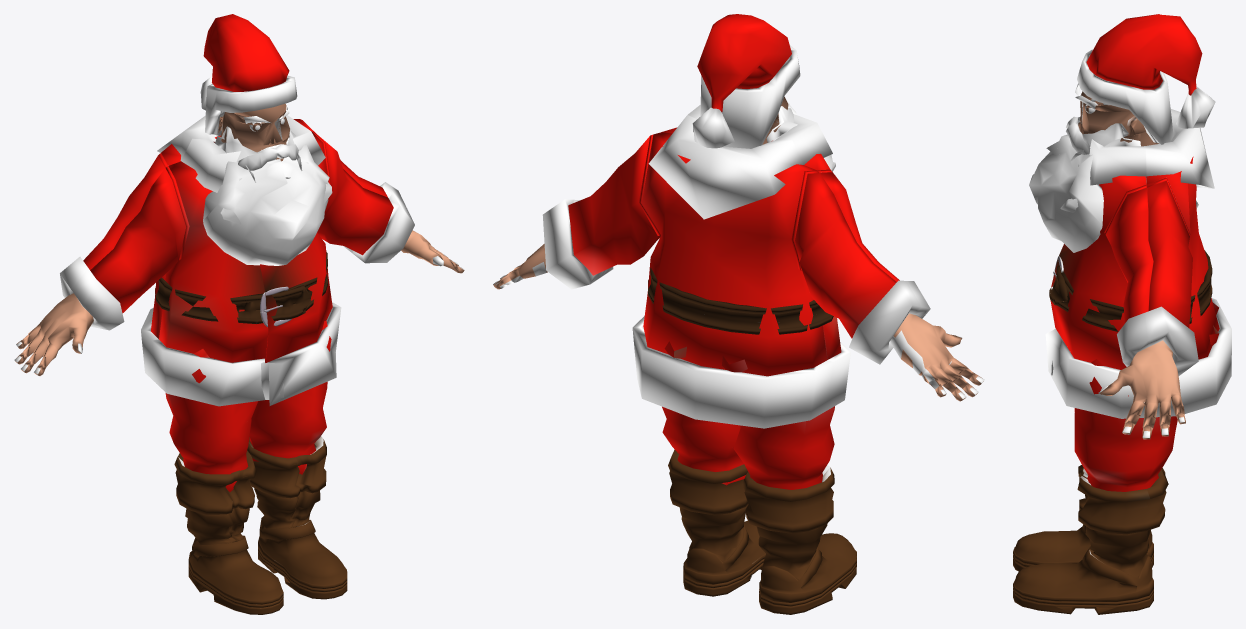
Rendered from santa.obj.
3 renders of one model, left to right at view 1: azimuth 30°, elevation 25°; view 2: azimuth 150°, elevation 25°; view 3: azimuth 270°, elevation 25°, orthographic. The views are drawn at different scales.
Visible parts, largest first — view 1: group_Default.001, group_White.001, group_boots.001, group_barbes, group_pantalon.001, group_boots_semelle.001, group_main.001, group_Ceinturon.001, group_man; view 2: group_Default.001, group_White.001, group_boots.001, group_pantalon.001, group_boots_semelle.001, group_main.001, group_Ceinturon.001, group_barbes; view 3: group_Default.001, group_White.001, group_boots.001, group_barbes, group_pantalon.001, group_main.001, group_boots_semelle.001, group_Ceinturon.001, group_man.
Boxes of the visible parts, bbox=[...] form: group_Default.001: bbox=[83, 14, 393, 362]; group_White.001: bbox=[60, 75, 414, 406]; group_boots.001: bbox=[174, 436, 346, 600]; group_barbes: bbox=[203, 107, 332, 265]; group_pantalon.001: bbox=[165, 321, 331, 491]; group_boots_semelle.001: bbox=[188, 516, 347, 614]; group_main.001: bbox=[15, 230, 464, 375]; group_Ceinturon.001: bbox=[155, 252, 327, 323]; group_man: bbox=[218, 103, 289, 161]; group_Default.001: bbox=[568, 14, 899, 376]; group_White.001: bbox=[542, 45, 930, 428]; group_boots.001: bbox=[668, 449, 856, 592]; group_pantalon.001: bbox=[662, 341, 834, 489]; group_boots_semelle.001: bbox=[683, 525, 856, 614]; group_main.001: bbox=[493, 243, 983, 401]; group_Ceinturon.001: bbox=[648, 267, 833, 334]; group_barbes: bbox=[766, 100, 835, 171]; group_Default.001: bbox=[1050, 14, 1219, 369]; group_White.001: bbox=[1045, 49, 1231, 418]; group_boots.001: bbox=[1014, 465, 1168, 598]; group_barbes: bbox=[1029, 83, 1140, 252]; group_pantalon.001: bbox=[1074, 302, 1219, 491]; group_main.001: bbox=[1099, 340, 1185, 439]; group_boots_semelle.001: bbox=[1013, 524, 1153, 614]; group_Ceinturon.001: bbox=[1049, 250, 1212, 331]; group_man: bbox=[1078, 91, 1159, 146].
Size of the model in its own units: 1.79 by 2.1 by 0.7374.
